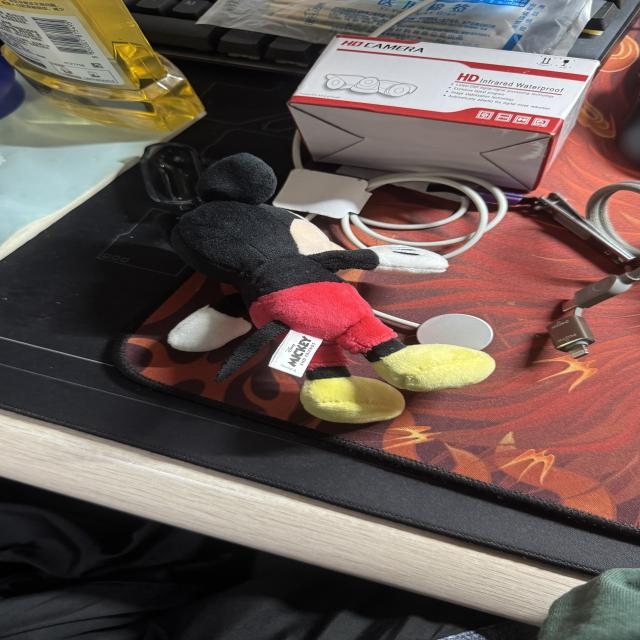mickey: (161, 154, 494, 422)
